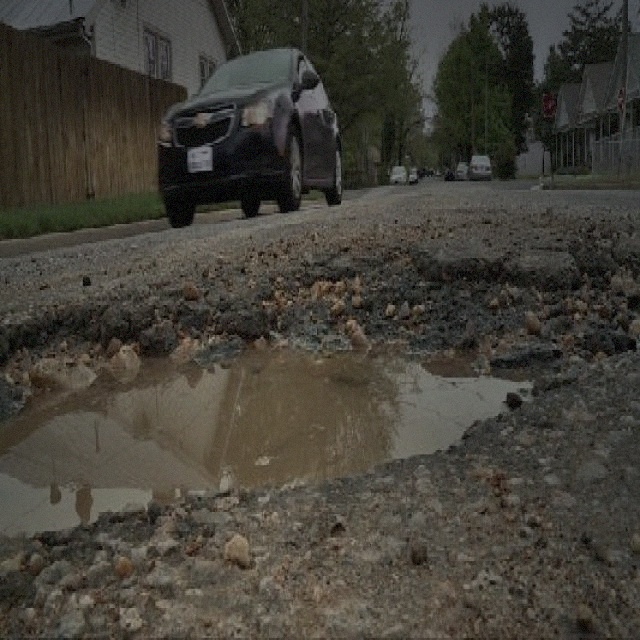pothole: (0, 228, 639, 546)
